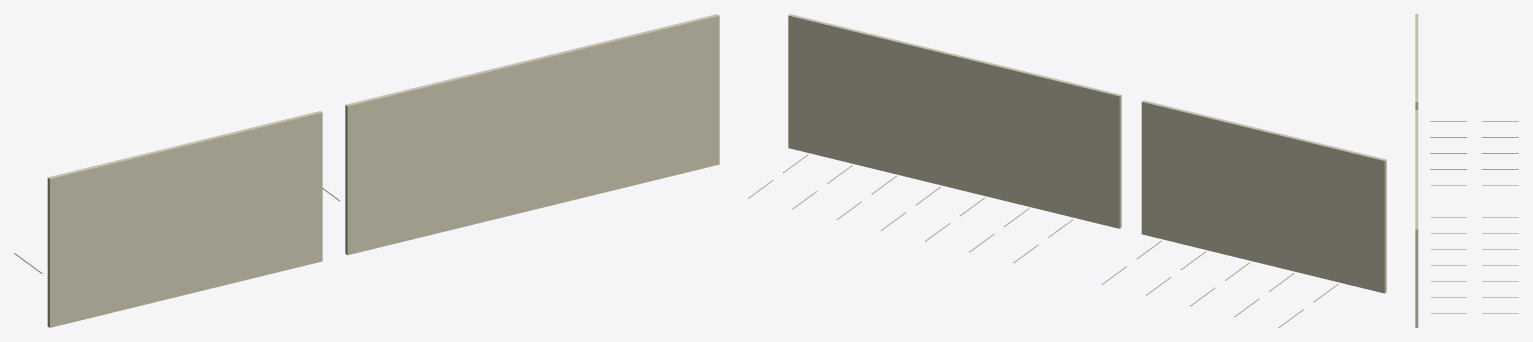
Rendered from ivory.obj.
3 renders of one model, left to right at view 1: azimuth 30°, elevation 25°; view 2: azimuth 150°, elevation 25°; view 3: azimuth 270°, elevation 25°, orthographic. The views are drawn at different scales.
Visible parts, largest first — view 1: geometry; view 2: geometry; view 3: geometry.
Part boxes in pixels (x1,y1,x2,y2): geometry: [14, 14, 719, 327]; geometry: [748, 14, 1386, 327]; geometry: [1415, 14, 1518, 327].
Size of the model in its own units: 40.5 by 8.6 by 8.19.
